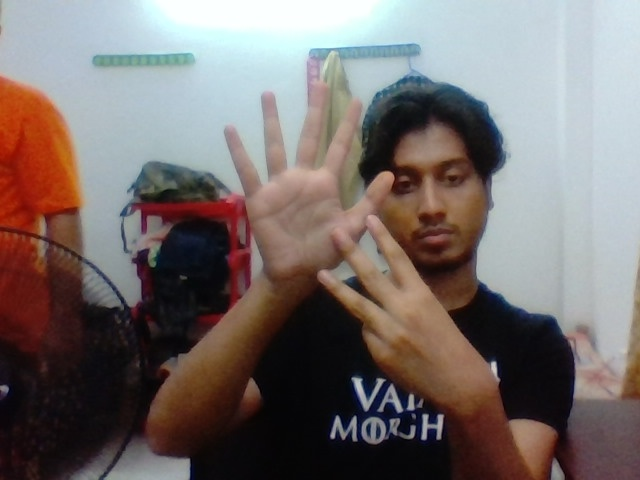M: (179, 75, 426, 352)
